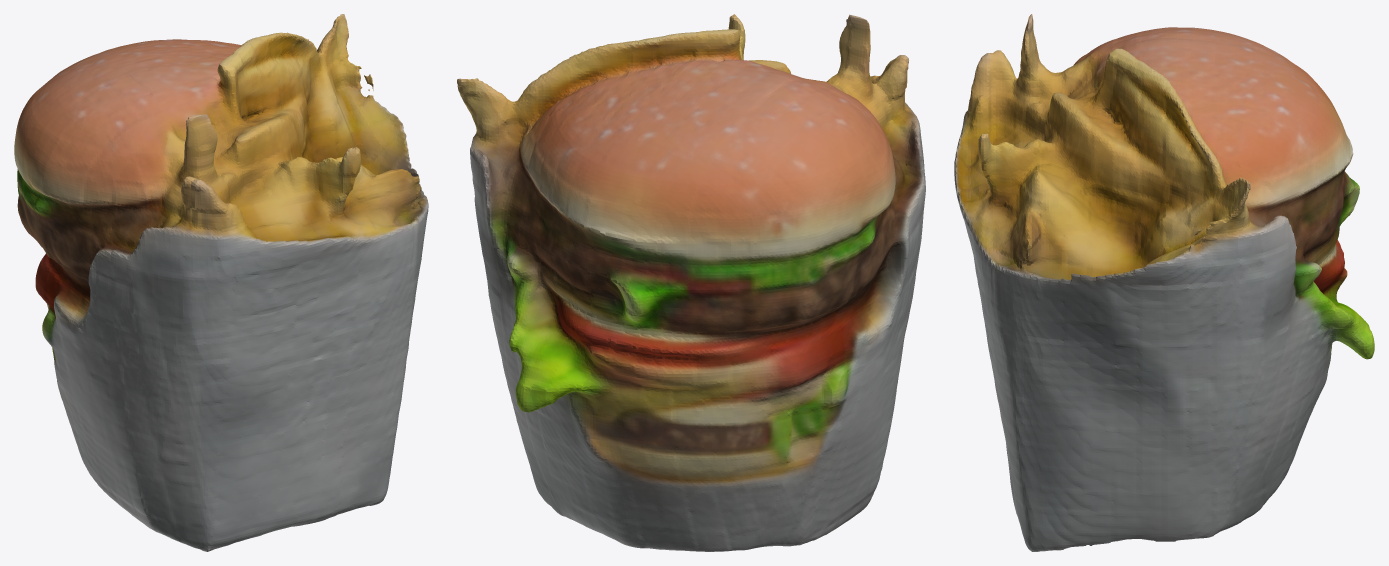
The model's file is tmesh_195.glb.
3 renders of one model, left to right at view 1: azimuth 30°, elevation 25°; view 2: azimuth 150°, elevation 25°; view 3: azimuth 270°, elevation 25°, orthographic. The views are drawn at different scales.
Parts seen in each view (by area): view 1: world; view 2: world; view 3: world.
Boxes of the visible parts, x1=… form: world: x1=14, y1=14, x2=428, y2=551; world: x1=457, y1=14, x2=925, y2=551; world: x1=954, y1=14, x2=1374, y2=551.
Bounding box in the file's own units: 1.05 × 1.24 × 1.06.
